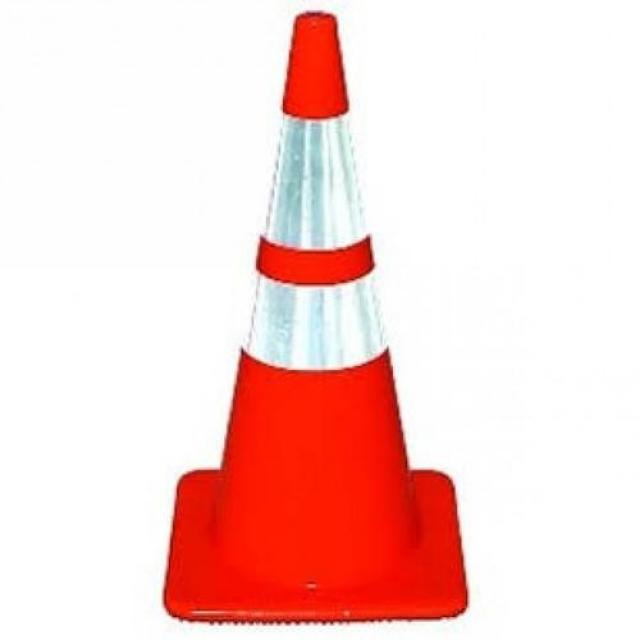cone: (146, 13, 472, 630)
